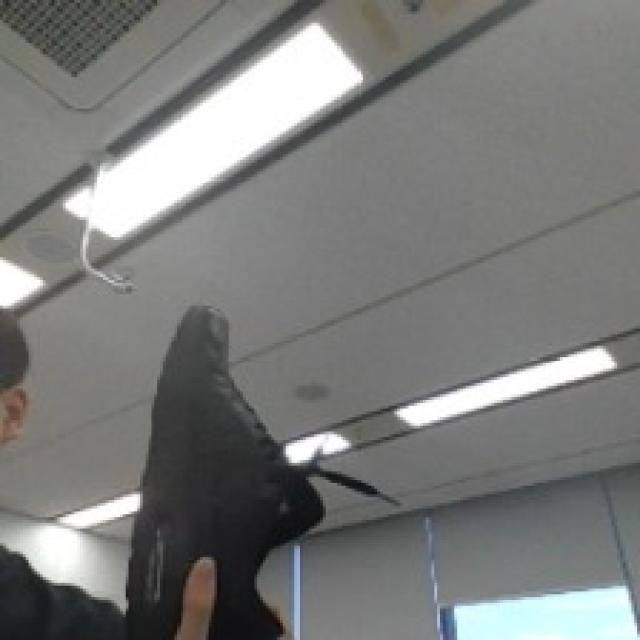shoe: (100, 264, 430, 628)
